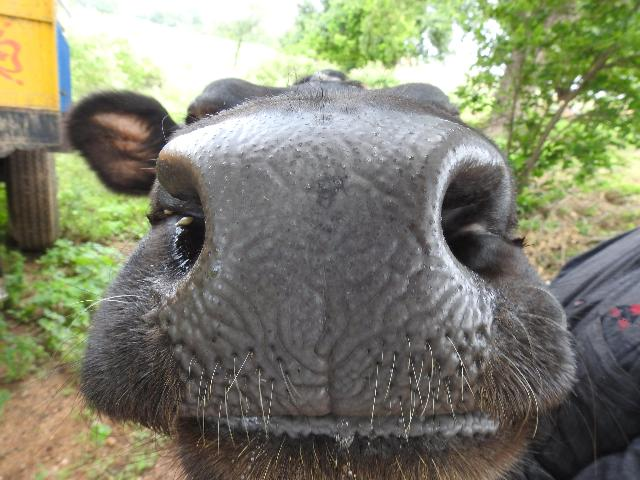Muzzle: (206, 136, 437, 406)
